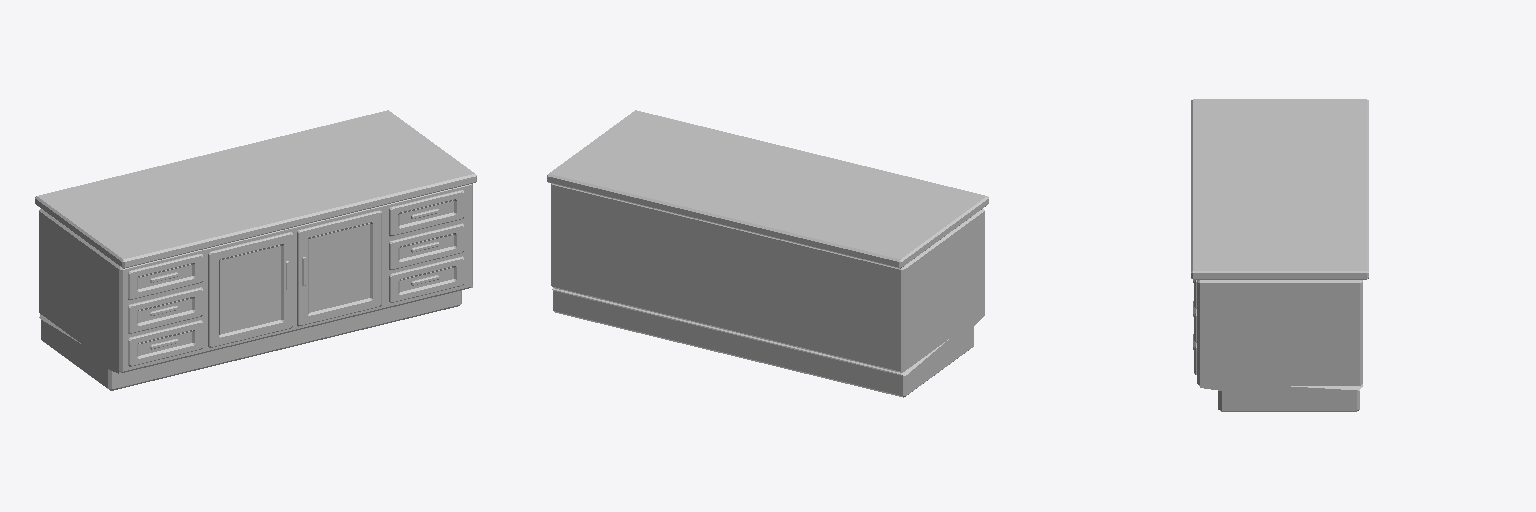
Rendered from Counter_A.obj.
The picture shows the model from 3 angles: view 1: azimuth 30°, elevation 25°; view 2: azimuth 150°, elevation 25°; view 3: azimuth 270°, elevation 25°; orthographic projection.
Parts seen in each view (by area): view 1: Counter_A; view 2: Counter_A; view 3: Counter_A.
Part boxes in pixels (x1,y1,x2,y2): Counter_A: (35, 110, 476, 390); Counter_A: (547, 110, 988, 397); Counter_A: (1191, 99, 1368, 411).
Size of the model in its own units: 14.42 by 5.52 by 6.26.